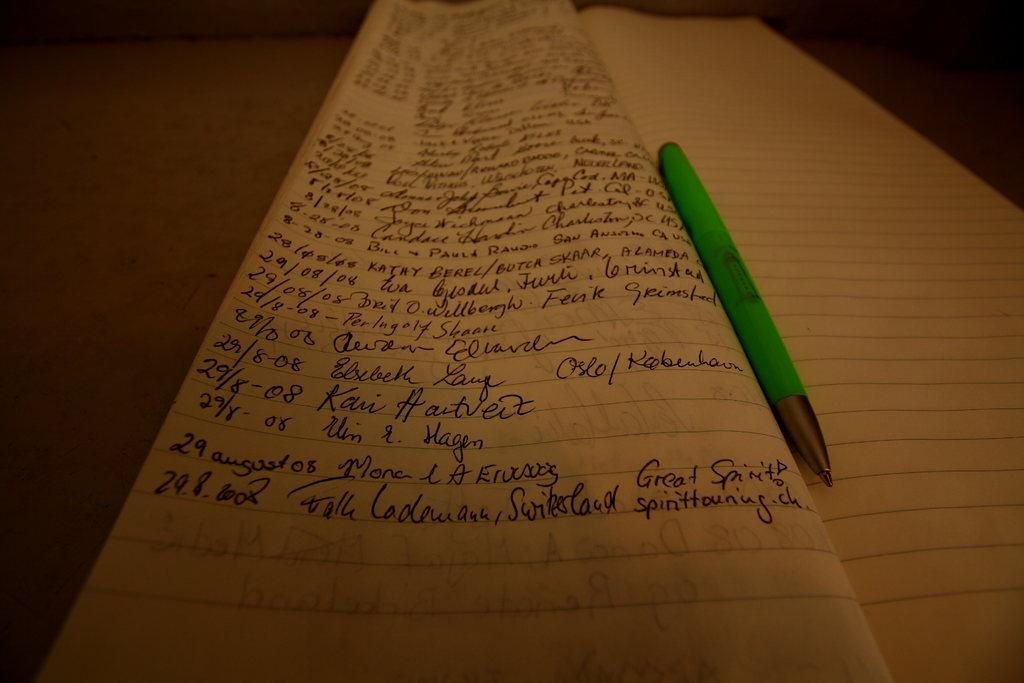Book: (33, 1, 1021, 681)
